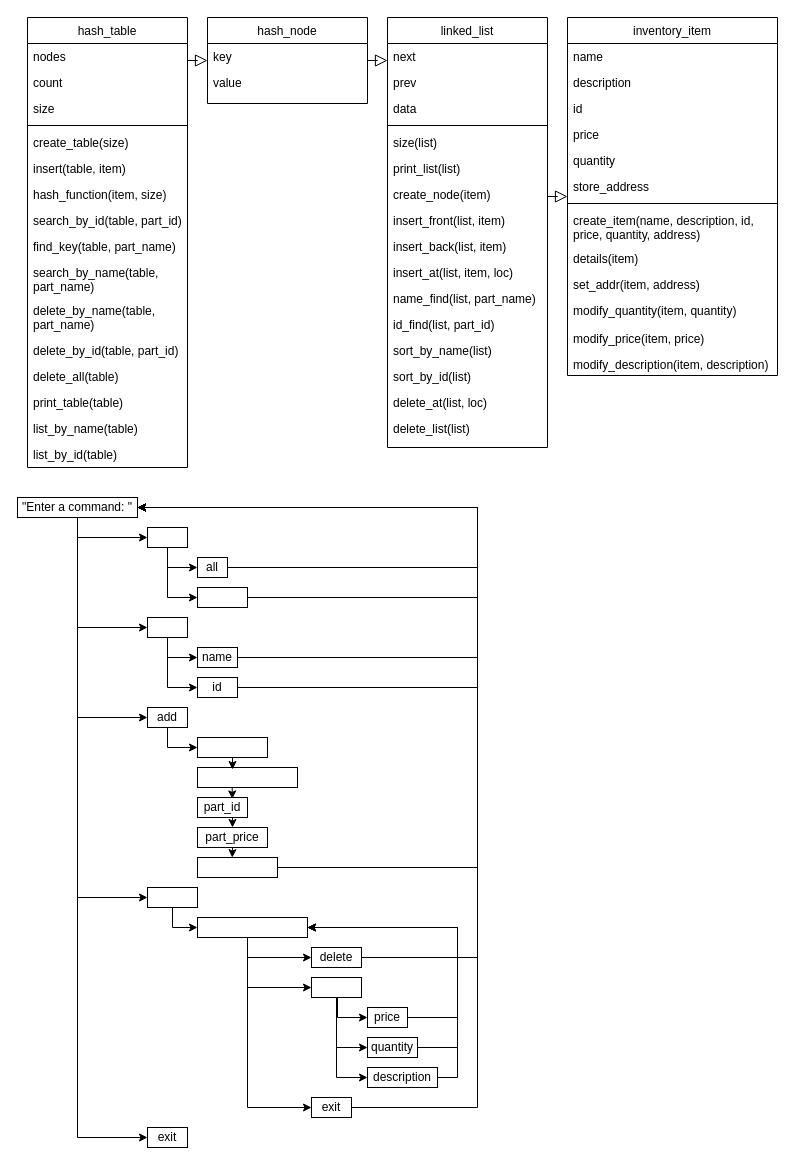
This 795x1165 diagram has some shape labels left out. Here are the shapes that lost their labels. From the top down, the centre of each, then its label:
At (x=167, y=537): "help".
At (x=222, y=597): "function".
At (x=167, y=627): "list".
At (x=232, y=747): "part_name".
At (x=247, y=777): "part_description".
At (x=237, y=867): "part_quantity".
At (x=172, y=897): "search".
At (x=252, y=927): "part_name/part_id".
At (x=336, y=987): "modify".
